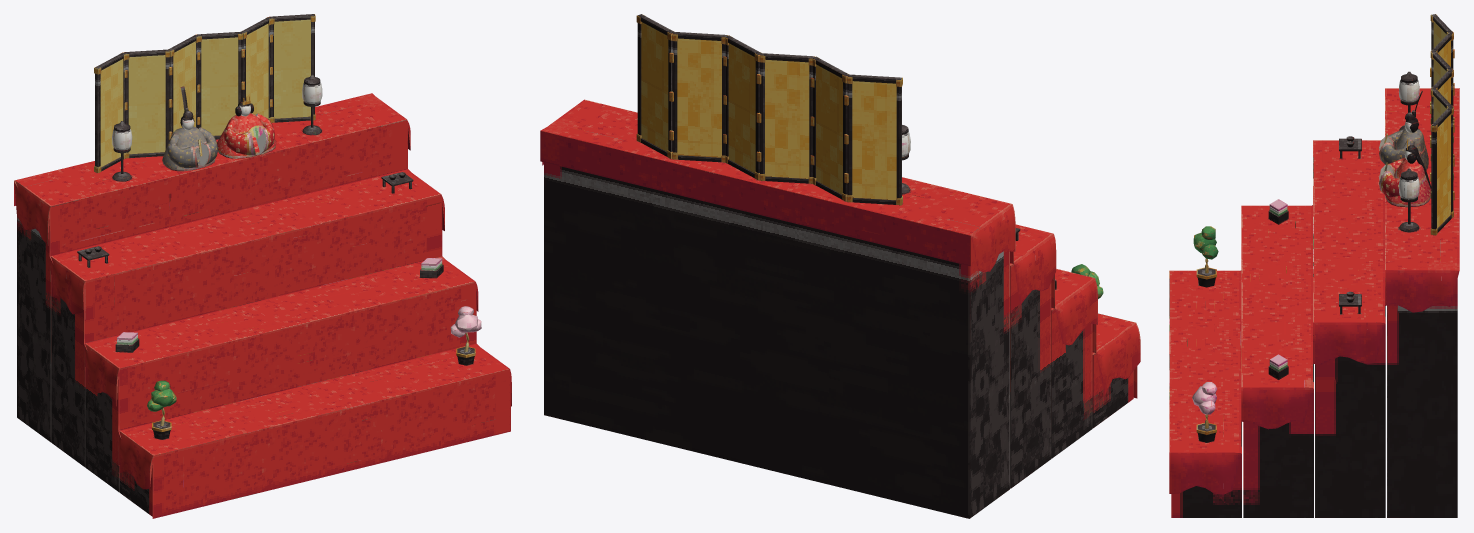
The model's file is hinadan_own.glb.
The picture shows the model from 3 angles, left to right: view 1: azimuth 30°, elevation 25°; view 2: azimuth 150°, elevation 25°; view 3: azimuth 270°, elevation 25°; orthographic projection. The views are drawn at different scales.
Parts seen in each view (by area): view 1: mesh; view 2: mesh; view 3: mesh.
Part boxes in pixels (box(x1,y1,x2,y2)): mesh: box(14, 14, 511, 518); mesh: box(540, 14, 1140, 518); mesh: box(1169, 14, 1459, 517).
Bounding box in the file's own units: 1.53 × 1.37 × 1.01.
Materials: 1 (1 with a texture image).
